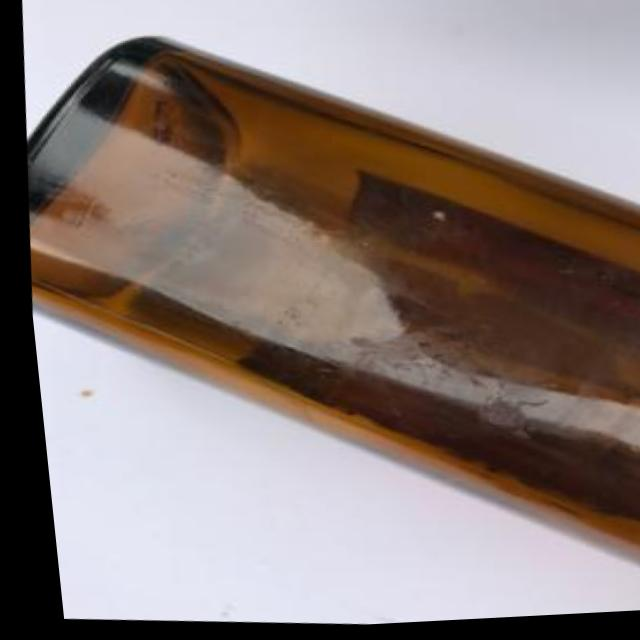glass: (2, 2, 640, 627)
